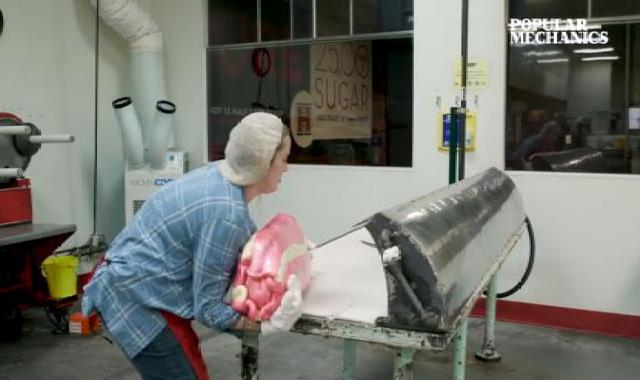hairnet: (210, 104, 303, 184)
